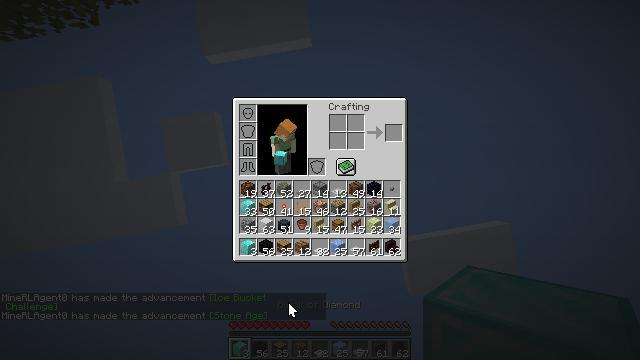cursor: (288, 302, 298, 318)
